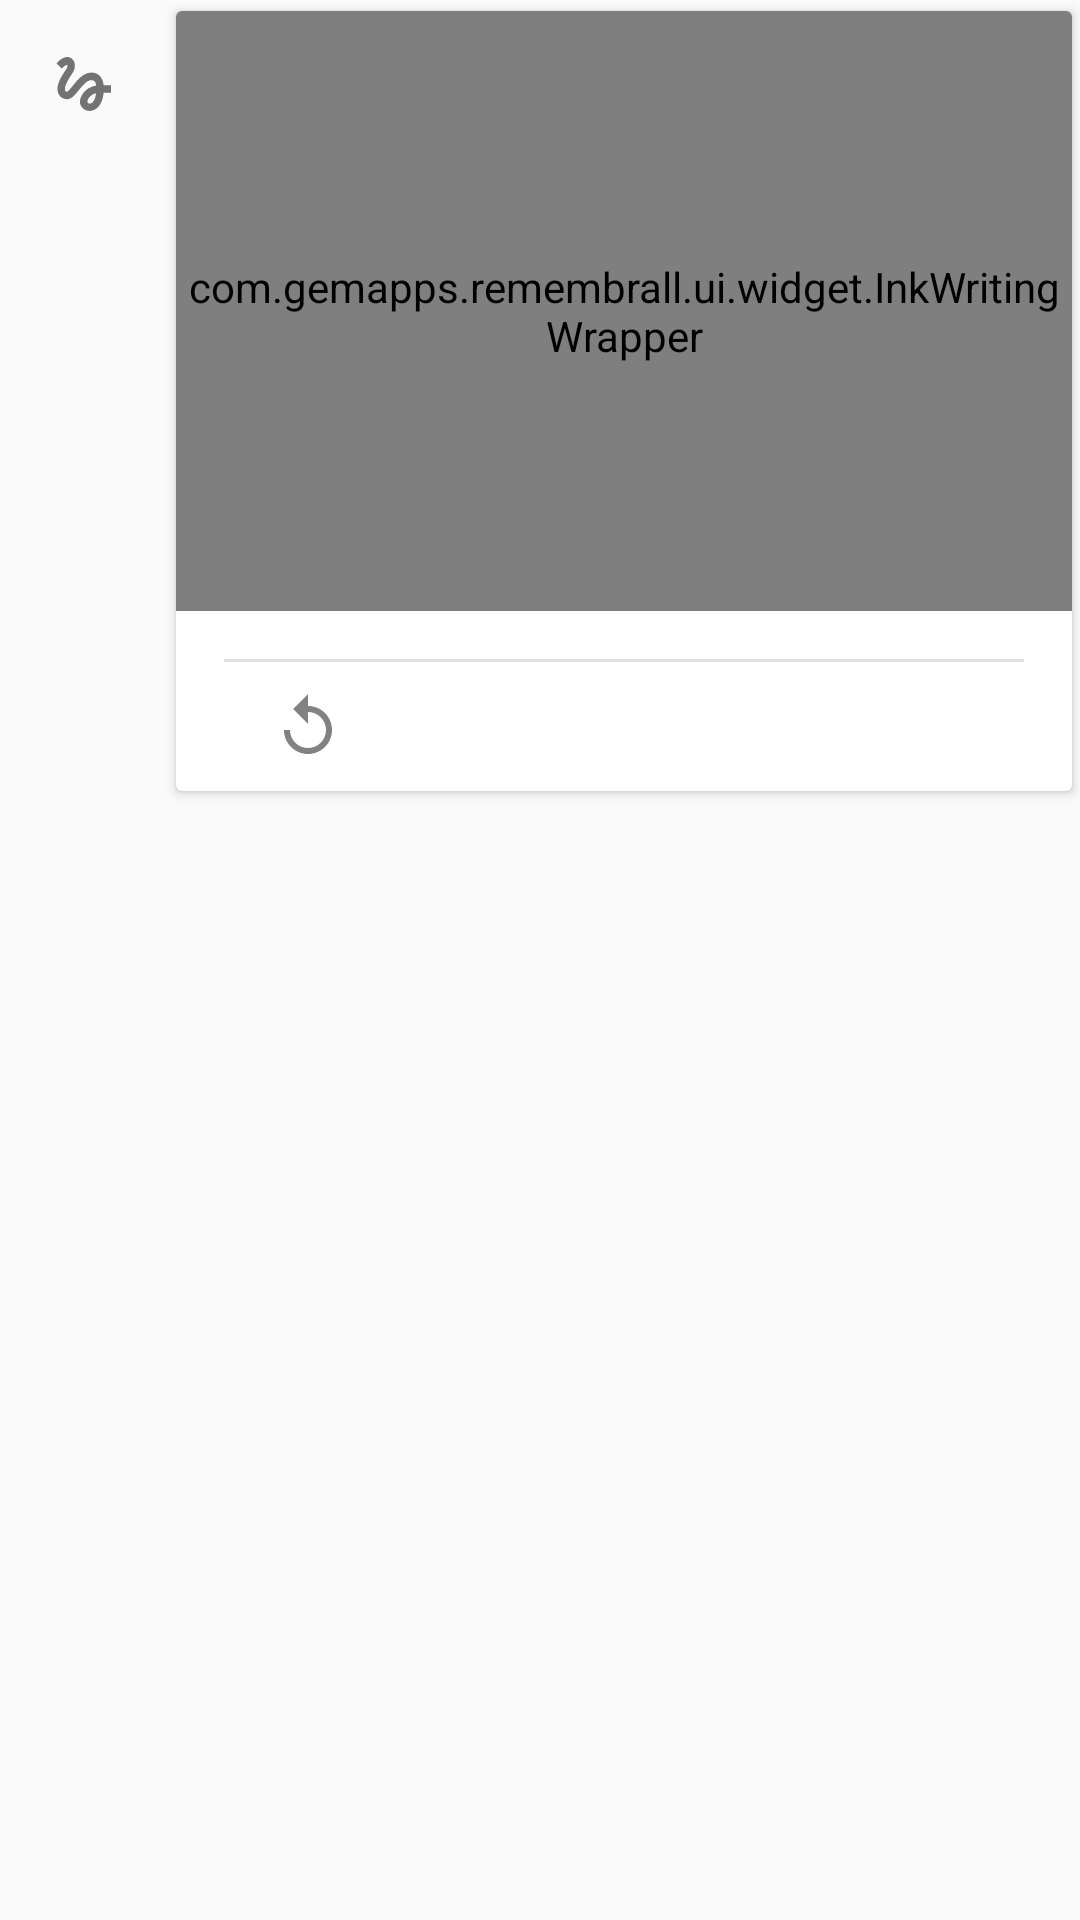

Icons on this 1080 x 1920 Android screen, each with its box as (x1, y1, x2, y2):
gesture: (56, 57, 111, 111)
Rehacer firma: (284, 694, 332, 754)
